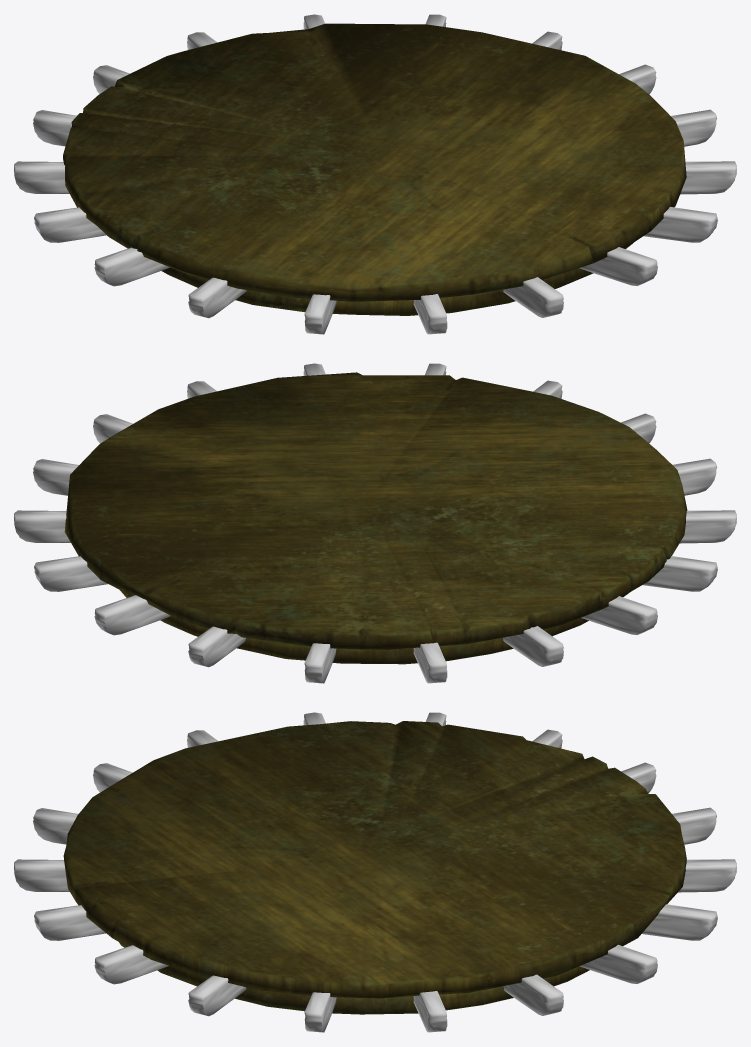
Rendered from SM_platform_plain.fbx.
3 views of the same model, one above another, from view 1: azimuth 30°, elevation 25°; view 2: azimuth 150°, elevation 25°; view 3: azimuth 270°, elevation 25° (orthographic).
Parts seen in each view (by area): view 1: platform_plain; view 2: platform_plain; view 3: platform_plain.
Boxes of the visible parts, box(x1,y1,x2,y2) form: platform_plain: box(14, 14, 736, 334); platform_plain: box(14, 363, 736, 683); platform_plain: box(14, 712, 736, 1032).
Bounding box in the file's own units: 1728 × 131 × 1749.
